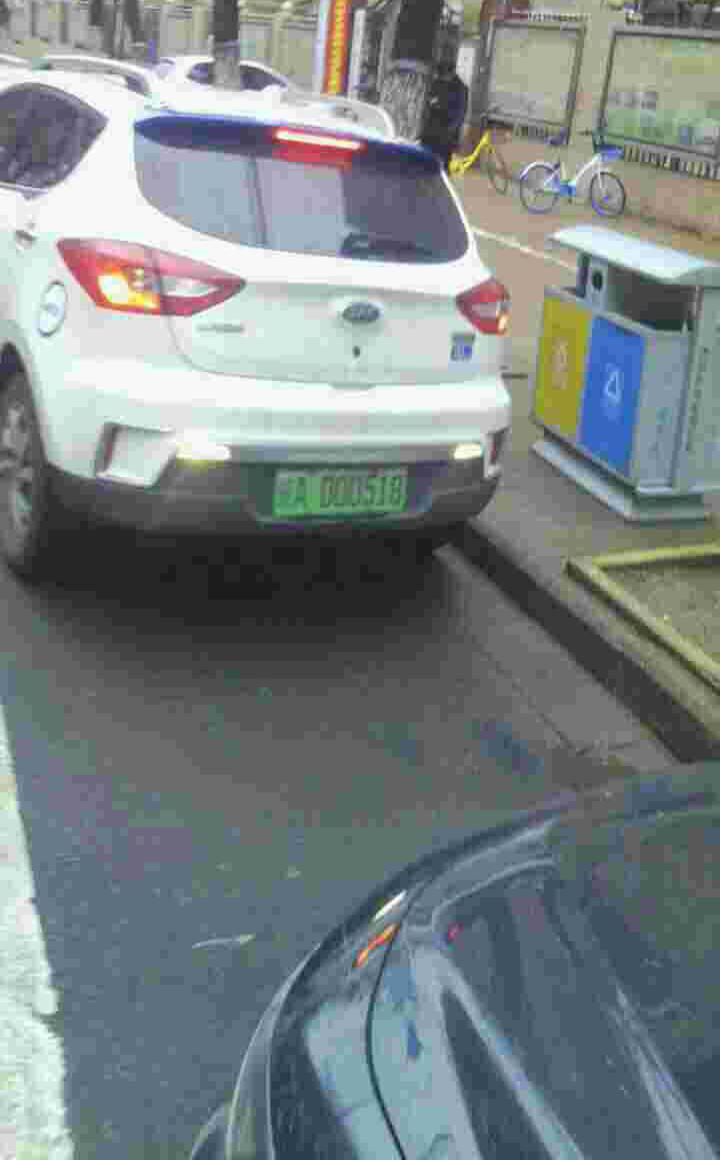car: (257, 463, 414, 514)
